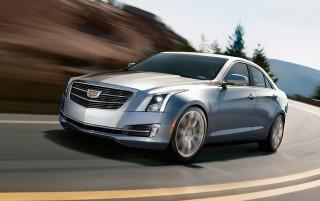cadillac: (85, 86, 104, 101)
